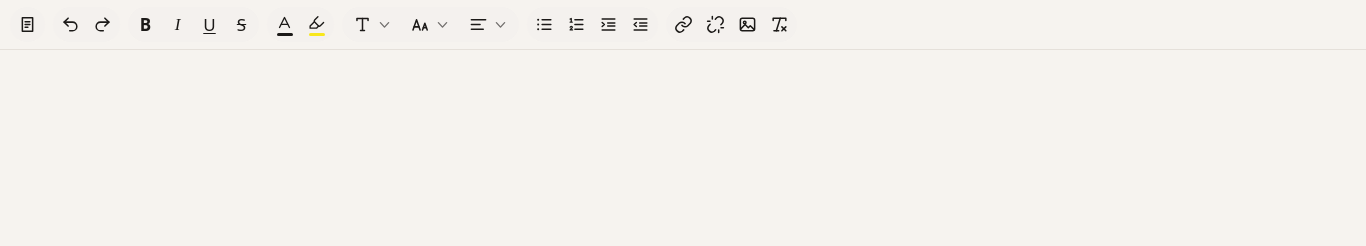
Scenario: EditorToolbar › offers the four sizes as Small/Normal/Large/Huge
Click the button named "Size". click: coordinates (430, 24)
box: [402,9,459,40]
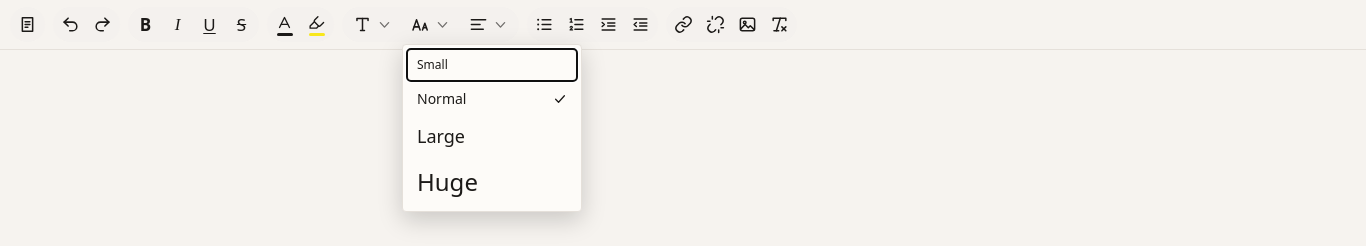
Check: the menu items read "Small", "Normal", "Large", "Huge", in this order, box [407,49,577,81]; [407,81,577,116]; [407,116,577,157]; [407,157,577,207]
